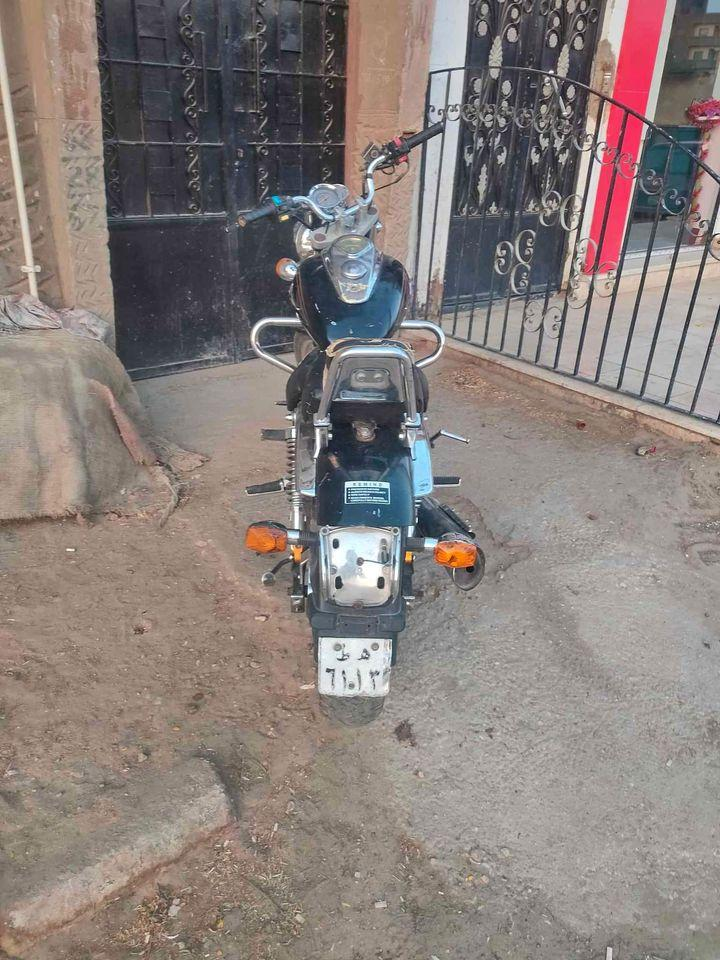License Plate: (312, 615, 399, 698)
